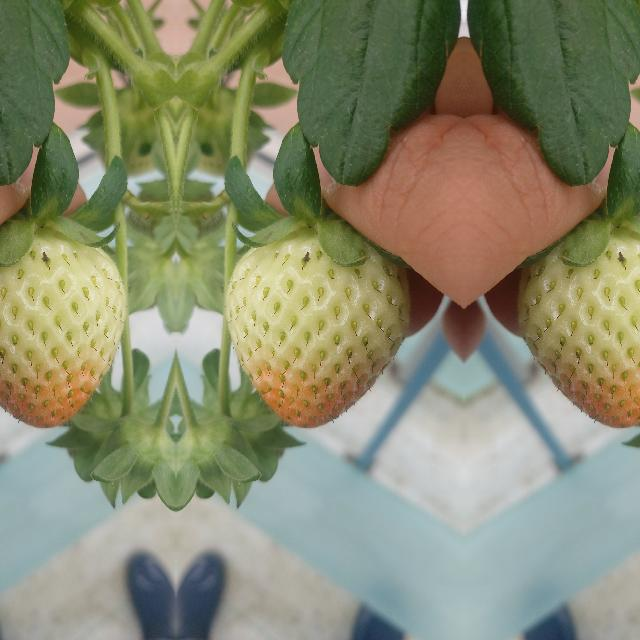Health_50: (224, 227, 408, 427), (0, 227, 126, 427), (518, 227, 640, 427)
